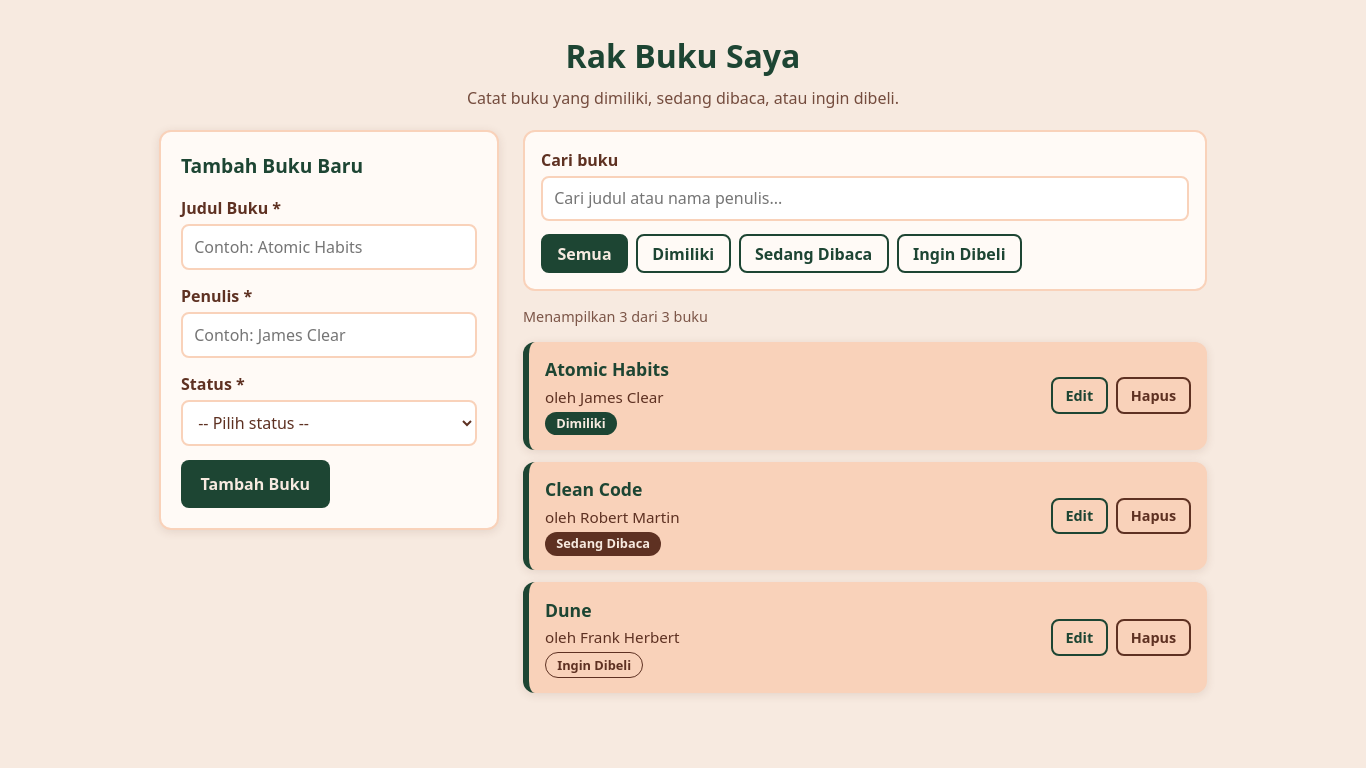
Home (integrasi: Context + localStorage + komponen) › menampilkan jumlah hasil sesuai filter
Click the button "Dimiliki": click(683, 254) [636,234,731,273]
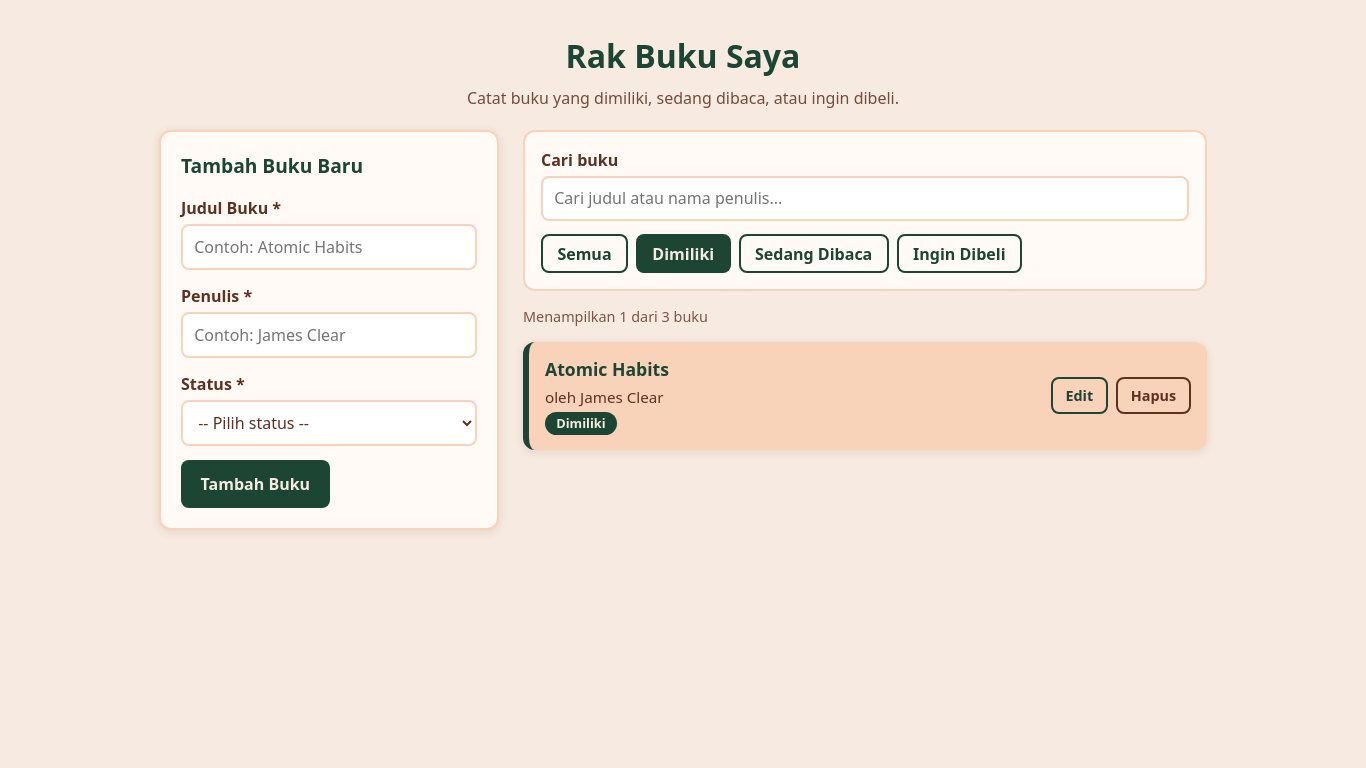
Expected: the text "Menampilkan 1 dari 3 buku" is shown, [523,307,708,326]
Expected: the number of list items is 1, [523,342,1207,450]
